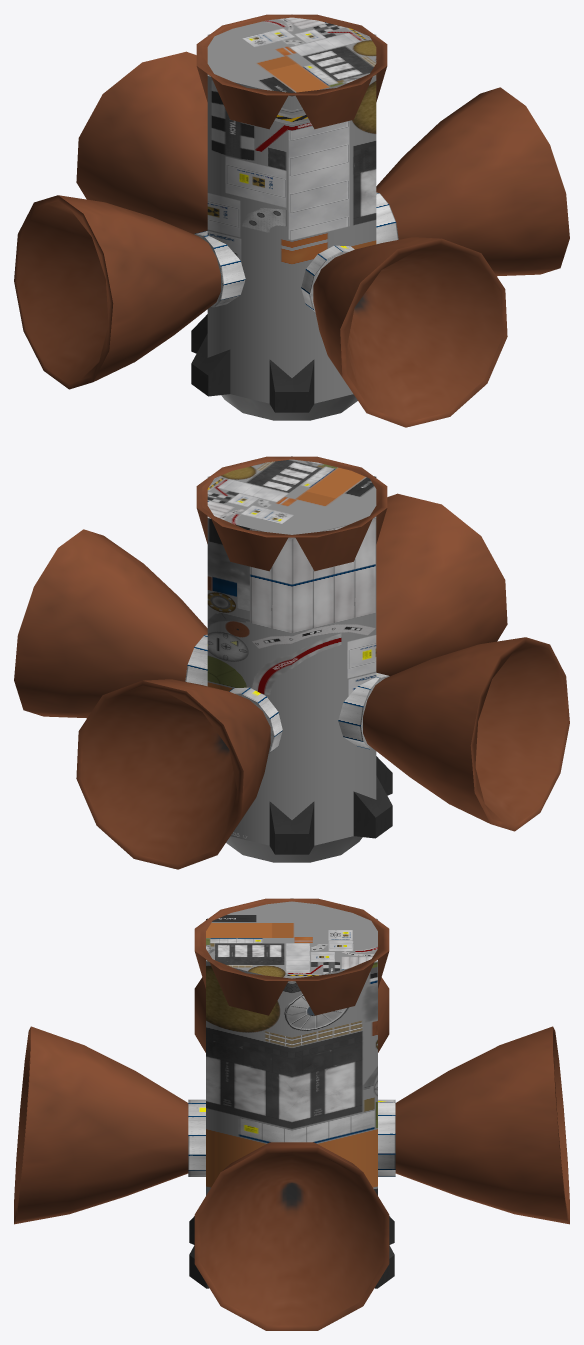
File: ArcJetRCS5-Way.FBX
The picture shows the model from 3 angles, top to bottom: view 1: azimuth 30°, elevation 25°; view 2: azimuth 150°, elevation 25°; view 3: azimuth 270°, elevation 25°; orthographic projection. The views are drawn at different scales.
Visible parts, largest first — view 1: Cylinder002, Cylinder008, Cylinder004, Cylinder006, Cylinder007, Cylinder003, Cylinder001, Cylinder011, Cylinder005, Cylinder009; view 2: Cylinder002, Cylinder008, Cylinder007, Cylinder006, Cylinder004, Cylinder003, Cylinder001, Cylinder011, Cylinder010, Cylinder009; view 3: Cylinder002, Cylinder006, Cylinder007, Cylinder004, Cylinder003, Cylinder008, Cylinder005, Cylinder010, Cylinder001.
Part boxes in pixels (x1,y1,x2,y2): Cylinder002: (207,14,376,403); Cylinder008: (14,195,220,389); Cylinder004: (313,237,507,427); Cylinder006: (376,87,569,276); Cylinder007: (76,51,207,234); Cylinder003: (196,14,387,129); Cylinder001: (191,314,357,420); Cylinder011: (194,230,245,307); Cylinder005: (301,245,354,311); Cylinder009: (376,192,398,244); Cylinder002: (207,456,376,845); Cylinder008: (363,637,569,831); Cylinder007: (76,679,270,869); Cylinder006: (14,529,207,718); Cylinder004: (376,493,507,676); Cylinder003: (196,456,387,571); Cylinder001: (226,756,392,862); Cylinder011: (338,672,389,749); Cylinder010: (229,687,282,753); Cylinder009: (185,634,207,686); Cylinder002: (206,898,377,1195); Cylinder006: (194,1142,389,1330); Cylinder007: (395,1026,569,1224); Cylinder004: (14,1026,188,1224); Cylinder003: (194,898,389,1015); Cylinder008: (194,977,389,1052); Cylinder005: (188,1099,205,1176); Cylinder010: (378,1099,395,1176); Cylinder001: (189,1216,394,1288).
Size of the model in its own units: 0.9755 by 0.9755 by 0.6671.
1 material, 1 textured.
